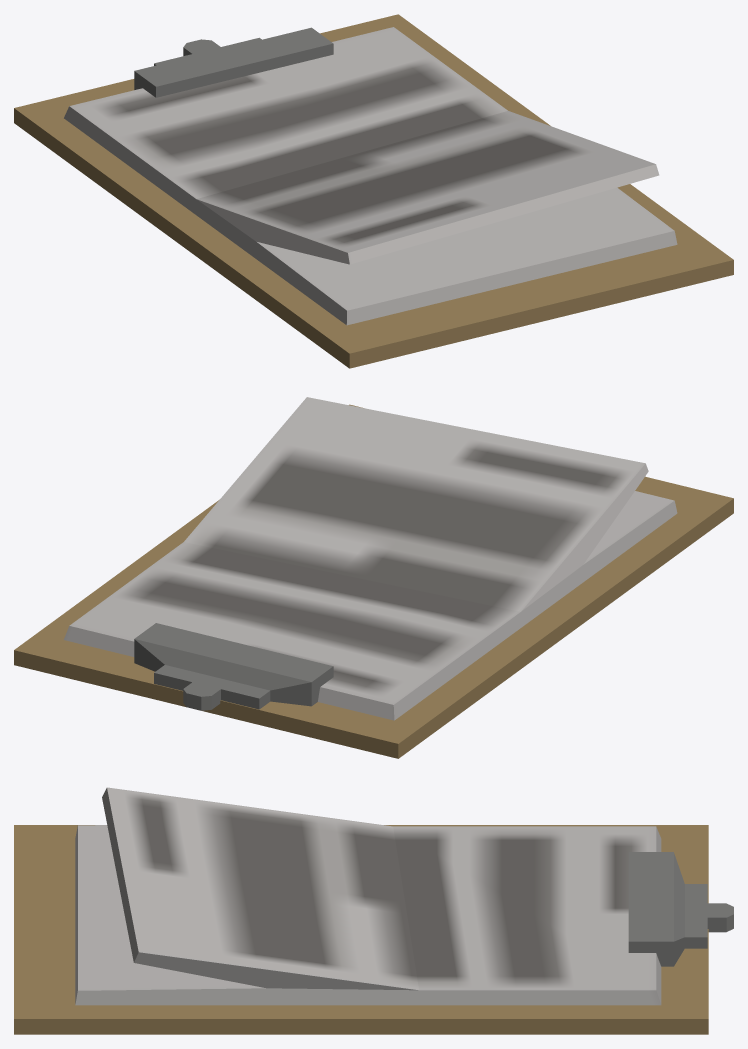
Rendered from SM_Prop_Clipboard_01.glb.
The picture shows the model from 3 angles, top to bottom: view 1: azimuth 30°, elevation 25°; view 2: azimuth 150°, elevation 25°; view 3: azimuth 270°, elevation 25°; orthographic projection. The views are drawn at different scales.
Visible parts, largest first — view 1: SM_Prop_Clipboard_01; view 2: SM_Prop_Clipboard_01; view 3: SM_Prop_Clipboard_01.
Boxes of the visible parts, <box> form: SM_Prop_Clipboard_01: <box>14,14,733,368</box>; SM_Prop_Clipboard_01: <box>14,397,733,758</box>; SM_Prop_Clipboard_01: <box>14,787,733,1034</box>.
Size of the model in its own units: 0.2758 by 0.0496 by 0.4322.
1 material, 1 textured.
